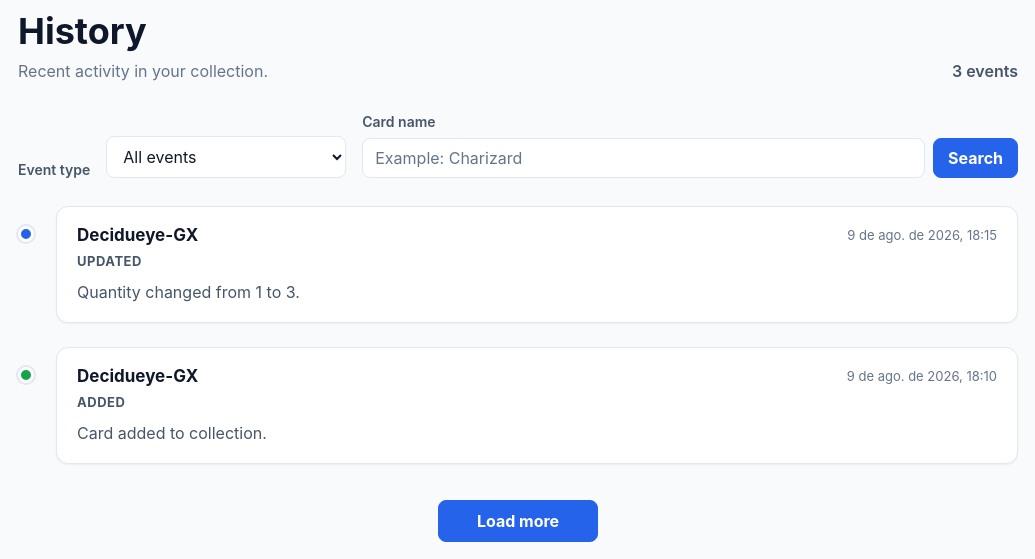
Test: HistoryPage › should filter history by action
Expected: the text "Card added to collection." is shown, [77,423,267,443]
Select "Updated" in the dropdown labelled "Event type" at (226, 157), box [106,136,346,178]
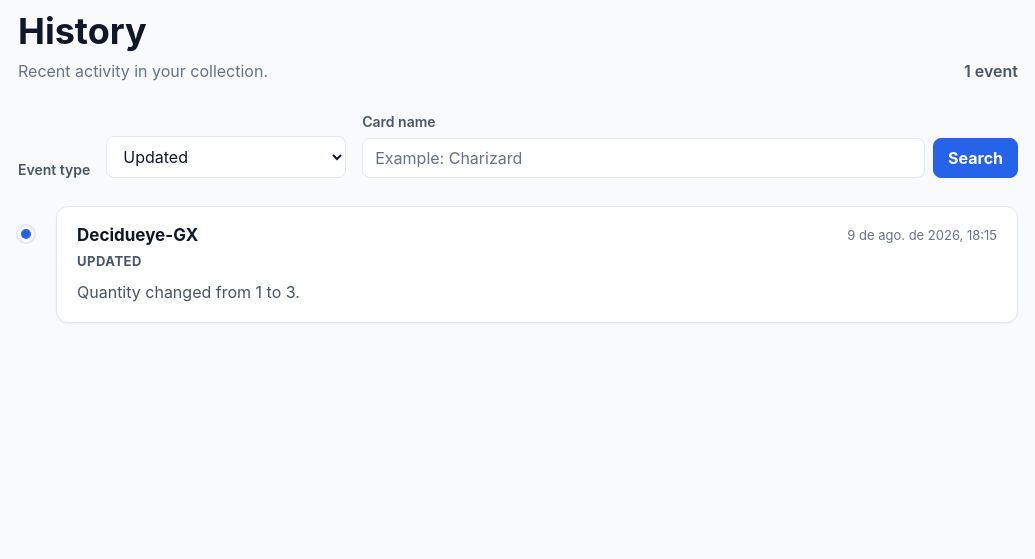
Expected: the text "Quantity changed from 1 to 3." is shown, [77,282,300,302]
Now the link "Card added to collection." is gone
